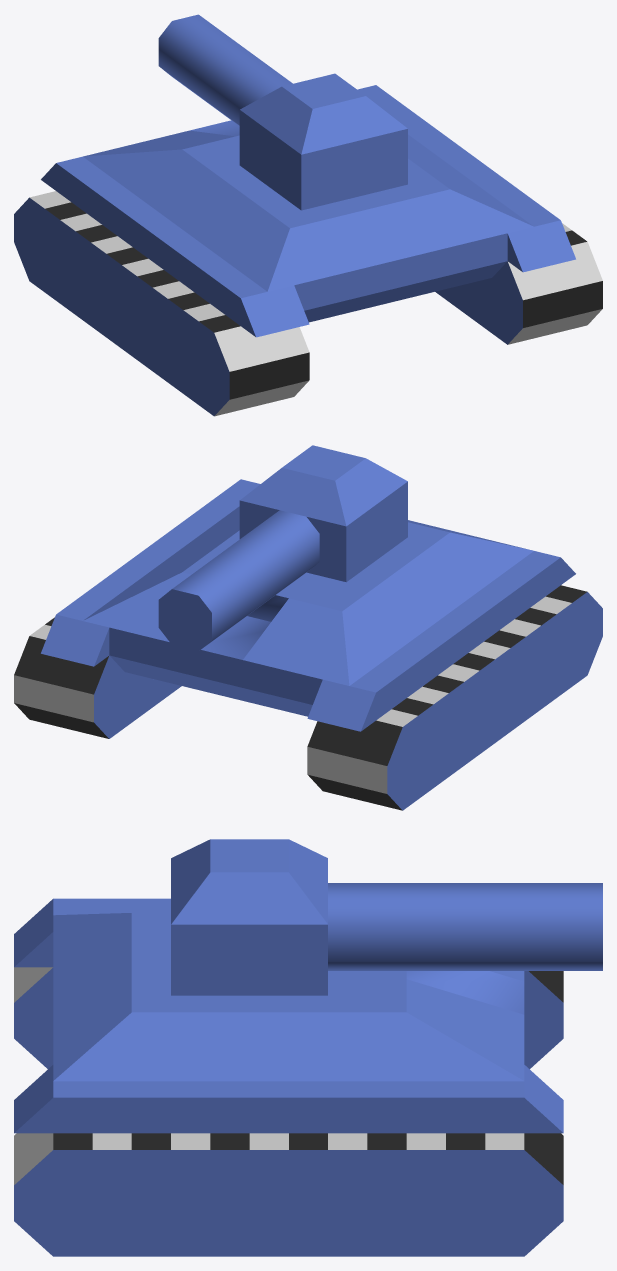
The model's file is playerD.fbx.
3 renders of one model, top to bottom at view 1: azimuth 30°, elevation 25°; view 2: azimuth 150°, elevation 25°; view 3: azimuth 270°, elevation 25°, orthographic. The views are drawn at different scales.
Parts seen in each view (by area): view 1: playerD; view 2: playerD; view 3: playerD.
Part boxes in pixels (left/top/right/bottom): playerD: left=14, top=14, right=602, bottom=416; playerD: left=14, top=445, right=602, bottom=810; playerD: left=14, top=839, right=602, bottom=1256.
Size of the model in its own units: 1.75 by 1 by 1.87.
